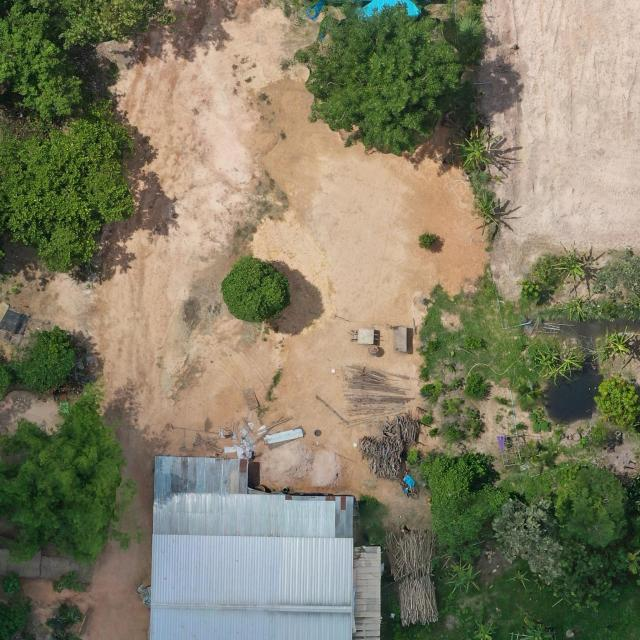Tree: (292, 2, 466, 160), (0, 377, 126, 565), (0, 110, 138, 275), (0, 0, 87, 120), (418, 452, 512, 548), (491, 497, 567, 584), (56, 0, 183, 51), (554, 467, 631, 551), (552, 538, 624, 614), (219, 252, 293, 324), (12, 324, 78, 396), (593, 372, 640, 426), (454, 124, 501, 170), (467, 192, 509, 235), (598, 325, 638, 367), (550, 242, 593, 281), (446, 556, 481, 596), (534, 343, 564, 385), (518, 616, 552, 640), (556, 346, 581, 375), (464, 102, 484, 130), (473, 620, 497, 640), (504, 571, 530, 589), (417, 231, 438, 251)
